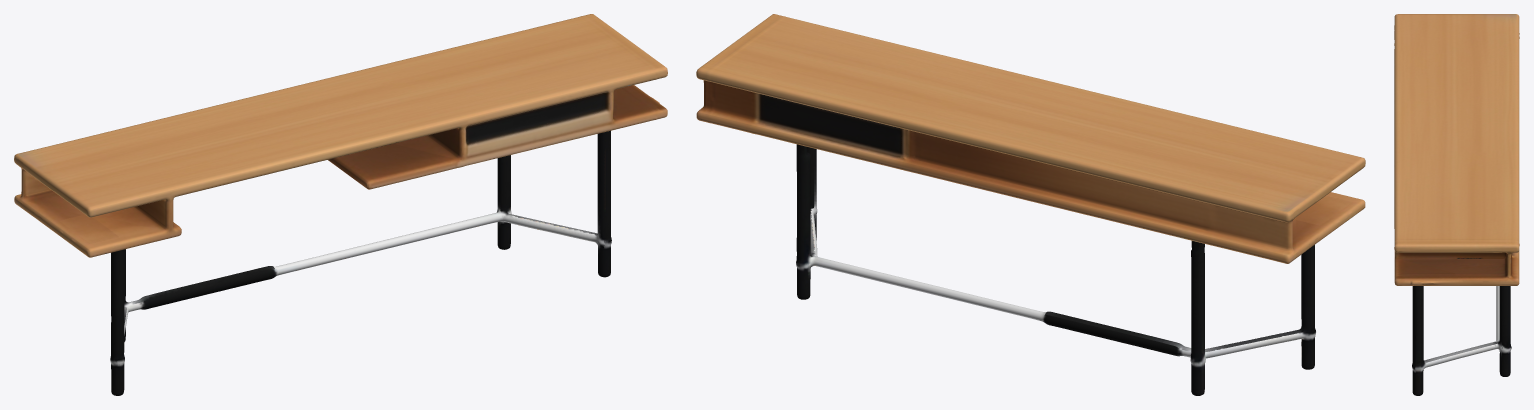
File: product-farmhouse-portofino-87-cerused-white-oak-wood-desk-by-gianfranco-fratt-04.glb
The picture shows the model from 3 angles, left to right: view 1: azimuth 30°, elevation 25°; view 2: azimuth 150°, elevation 25°; view 3: azimuth 270°, elevation 25°; orthographic projection. The views are drawn at different scales.
Parts seen in each view (by area): view 1: geometry_0; view 2: geometry_0; view 3: geometry_0.
Boxes of the visible parts, left/top/right/bottom form: geometry_0: left=14, top=14, right=667, bottom=395; geometry_0: left=696, top=14, right=1365, bottom=395; geometry_0: left=1394, top=14, right=1519, bottom=395.
Bounding box in the file's own units: 1.98 × 0.672 × 0.4492.
1 material, 1 textured.
